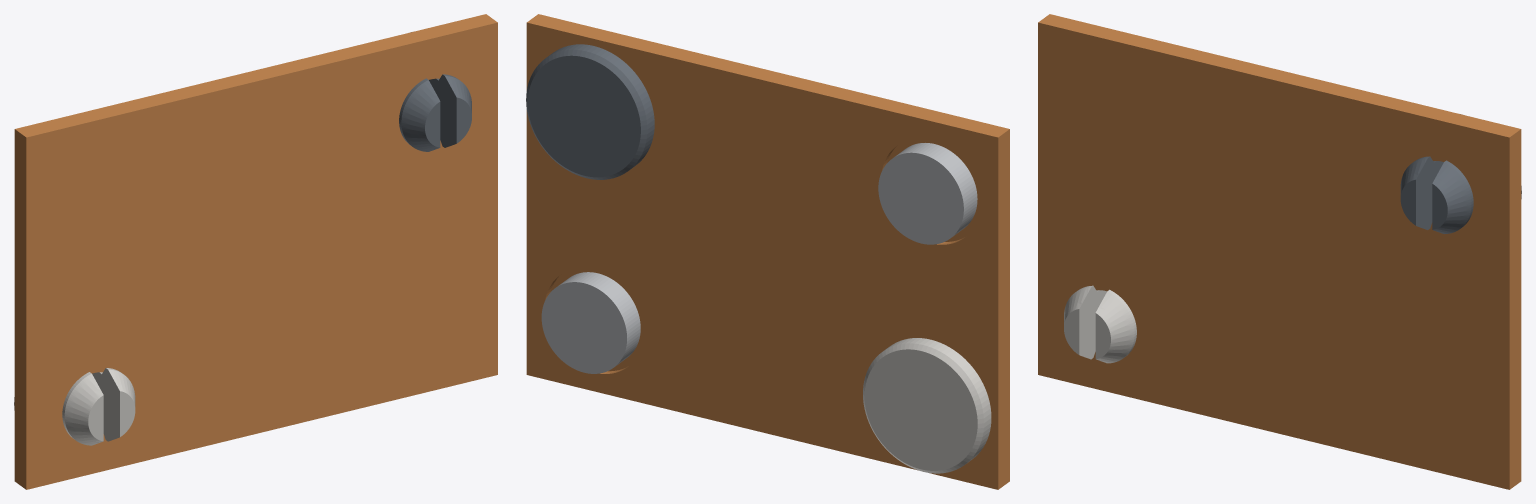
3 views of the same model, side by side, from view 1: azimuth 30°, elevation 25°; view 2: azimuth 150°, elevation 25°; view 3: azimuth 330°, elevation 25° (orthographic).
Visible parts, largest first — view 1: fond, pied_tpu_2, pied_tpu_1; view 2: fond, pied_tpu_1, pied_tpu_2, caoutchouc_2, caoutchouc_1; view 3: fond, pied_tpu_1, pied_tpu_2.
Part boxes in pixels (x1,y1,x2,y2): fond: [14, 14, 497, 489]; pied_tpu_2: [14, 368, 135, 445]; pied_tpu_1: [399, 32, 471, 151]; fond: [526, 14, 1009, 489]; pied_tpu_1: [526, 44, 654, 179]; pied_tpu_2: [863, 338, 991, 473]; caoutchouc_2: [541, 272, 640, 373]; caoutchouc_1: [878, 143, 977, 244]; fond: [1038, 14, 1521, 489]; pied_tpu_1: [1400, 114, 1521, 233]; pied_tpu_2: [1064, 285, 1136, 363].
Bounding box in the file's own units: 70 × 50 × 10.13.
